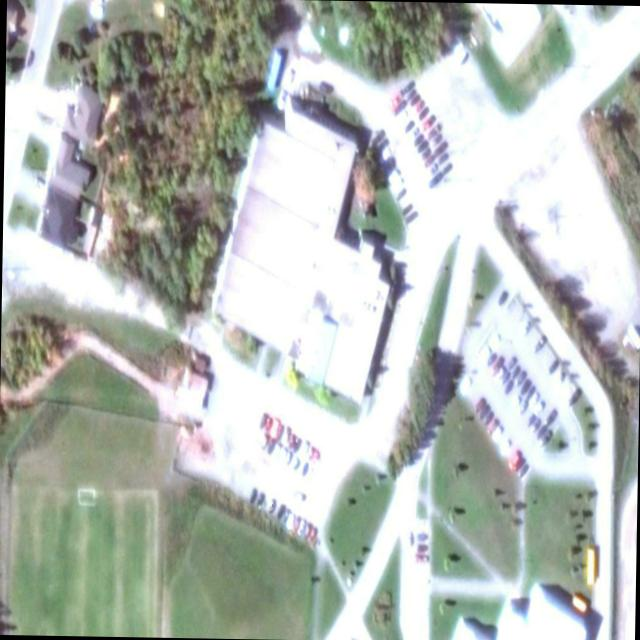small-vehicle: (430, 139, 449, 158), (506, 449, 522, 470), (488, 354, 503, 376), (531, 335, 547, 354), (565, 388, 581, 407), (391, 99, 408, 116), (419, 114, 436, 131), (427, 171, 443, 189), (536, 430, 552, 448), (426, 121, 442, 139), (542, 408, 557, 427), (397, 81, 415, 96), (489, 425, 503, 442), (495, 289, 509, 306), (545, 357, 558, 375), (304, 526, 317, 544), (479, 410, 494, 425), (402, 210, 417, 225), (476, 404, 490, 420), (513, 371, 527, 387), (518, 378, 531, 395), (253, 491, 265, 509), (283, 513, 295, 531), (294, 518, 306, 536), (420, 154, 434, 169), (388, 93, 402, 108), (278, 424, 288, 445), (317, 82, 332, 96), (24, 49, 35, 68), (485, 418, 498, 434), (526, 391, 539, 407), (289, 516, 300, 534), (531, 399, 545, 413), (414, 139, 428, 153), (415, 106, 429, 120), (515, 463, 528, 478), (371, 129, 384, 144), (528, 417, 540, 433), (298, 440, 309, 457), (512, 457, 525, 471), (504, 356, 517, 370), (408, 93, 421, 107), (434, 152, 448, 165), (438, 162, 452, 175), (393, 187, 406, 201), (376, 138, 389, 152), (473, 398, 485, 413), (508, 365, 520, 380), (256, 412, 266, 430), (498, 371, 509, 387), (402, 118, 413, 134), (246, 487, 256, 504), (403, 88, 416, 101), (523, 385, 535, 399), (534, 425, 546, 439), (429, 133, 441, 147), (517, 400, 528, 415), (264, 499, 275, 514), (291, 437, 301, 453), (275, 504, 285, 520), (411, 133, 423, 146), (400, 203, 413, 215), (485, 352, 496, 366), (280, 508, 290, 523), (301, 522, 311, 537), (414, 99, 424, 114), (418, 148, 430, 160), (265, 439, 274, 455), (427, 163, 438, 176), (408, 125, 419, 138), (524, 413, 534, 427), (503, 380, 513, 394), (305, 446, 315, 460), (282, 451, 291, 466), (258, 435, 267, 450), (289, 456, 298, 469), (299, 462, 308, 475), (294, 491, 304, 502), (414, 555, 427, 563), (311, 450, 319, 462), (416, 544, 427, 552), (287, 433, 293, 447), (416, 533, 426, 541)
